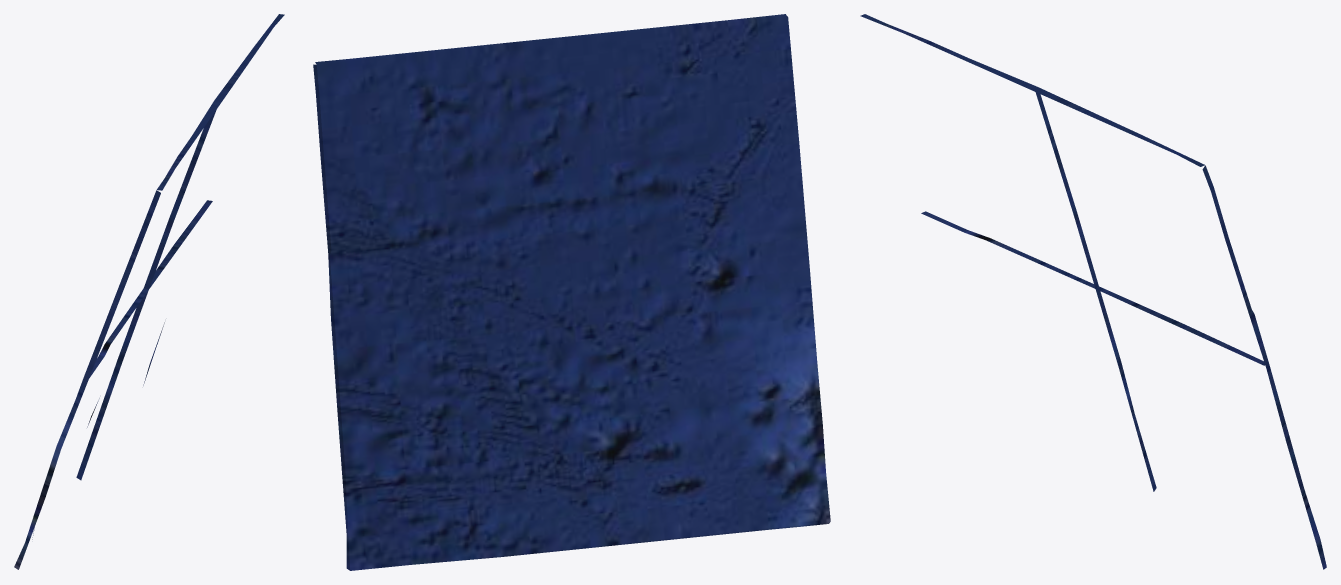
The picture shows the model from 3 angles, left to right: view 1: azimuth 30°, elevation 25°; view 2: azimuth 150°, elevation 25°; view 3: azimuth 270°, elevation 25°; orthographic projection. The views are drawn at different scales.
Size of the model in its own units: 289108 by 299563 by 280513.
Materials: 1 (1 with a texture image).
